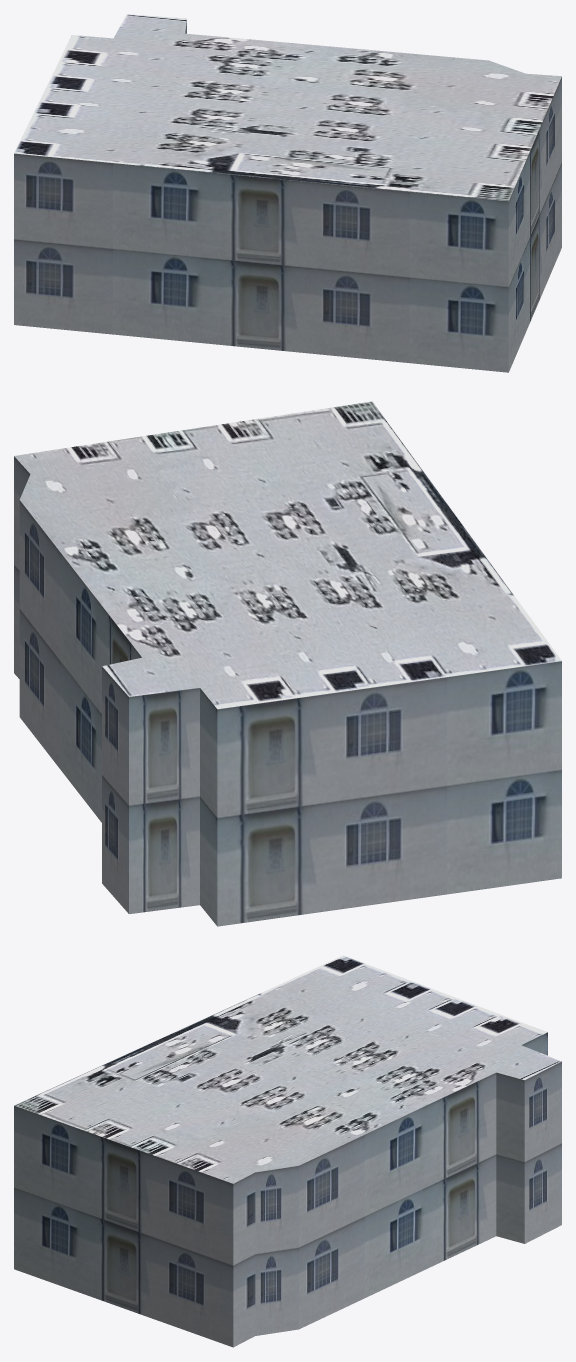
File: ResTex__4371.fbx
3 renders of one model, top to bottom at view 1: azimuth 30°, elevation 25°; view 2: azimuth 150°, elevation 25°; view 3: azimuth 270°, elevation 25°, orthographic. The views are drawn at different scales.
Parts seen in each view (by area): view 1: CityEngineMaterial_17_m, CityEngineMaterial_2_m; view 2: CityEngineMaterial_17_m, CityEngineMaterial_2_m; view 3: CityEngineMaterial_17_m, CityEngineMaterial_2_m.
Part boxes in pixels (x1,y1,x2,y2): CityEngineMaterial_17_m: (14,21,561,372); CityEngineMaterial_2_m: (14,14,561,201); CityEngineMaterial_17_m: (14,456,561,926); CityEngineMaterial_2_m: (14,401,561,709); CityEngineMaterial_17_m: (14,1032,561,1347); CityEngineMaterial_2_m: (14,955,561,1183).
Size of the model in its own units: 17.95 by 6 by 18.2.
2 materials, 2 textured.
